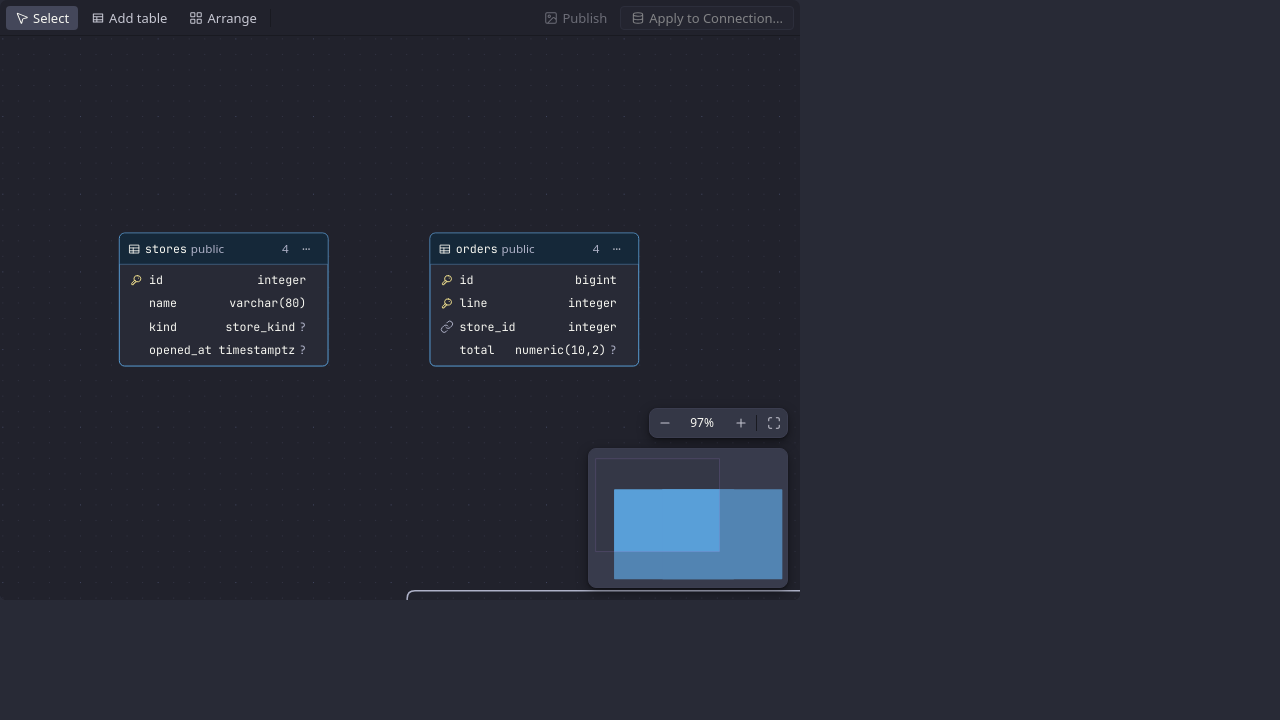
Test: card_ask_from_never_connection_leaves_the_gate_to_the_core
This screenshot has width=1280, height=720.
Click the button named "Table actions" at (306, 249), box [293,235,320,262]
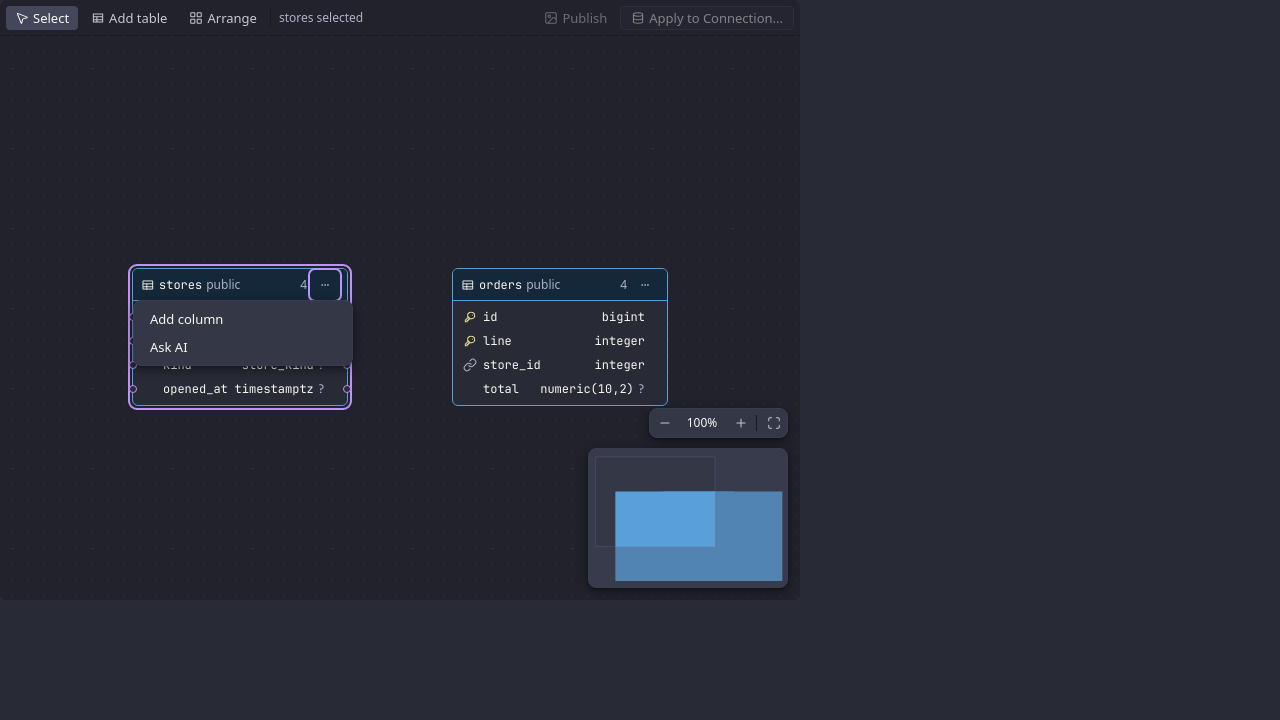
Click the menu item "Ask AI" at (243, 347), box [138,333,348,361]
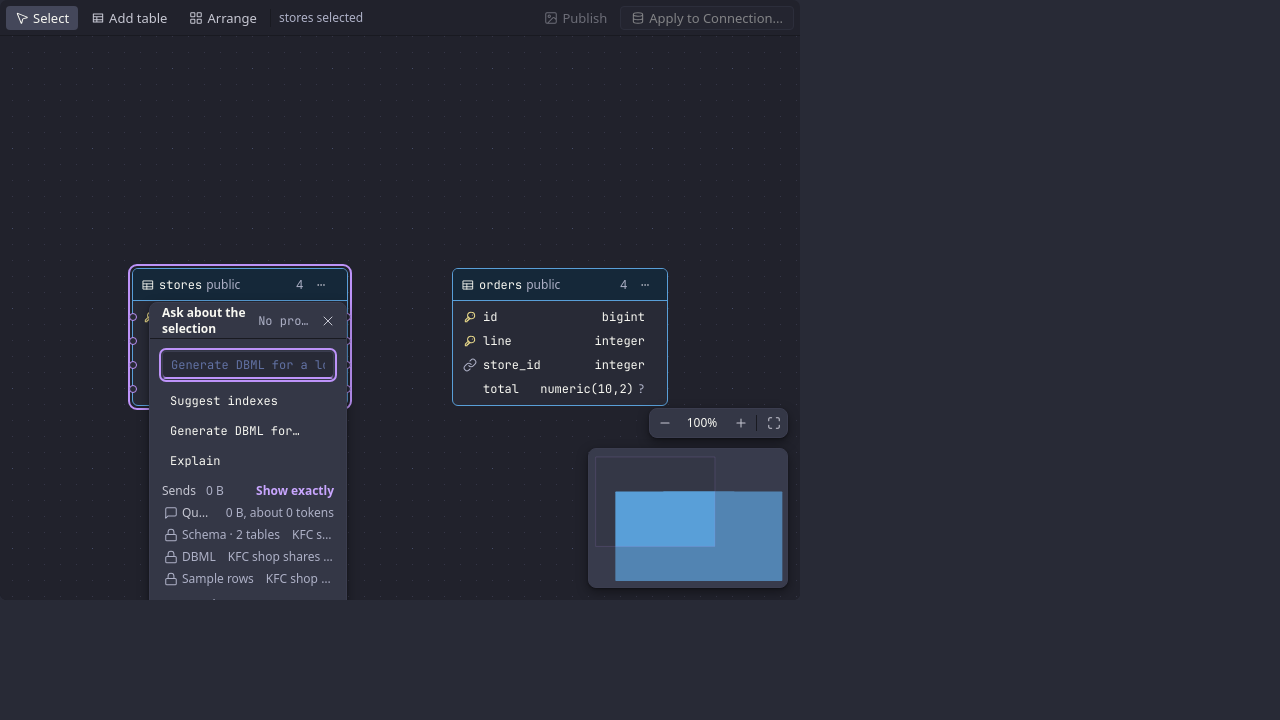
Check: the 1st text "KFC shop shares nothing with AI" is shown, box [292,527,334,543]
Click the button "Explain" at (248, 461), box [162,447,334,475]
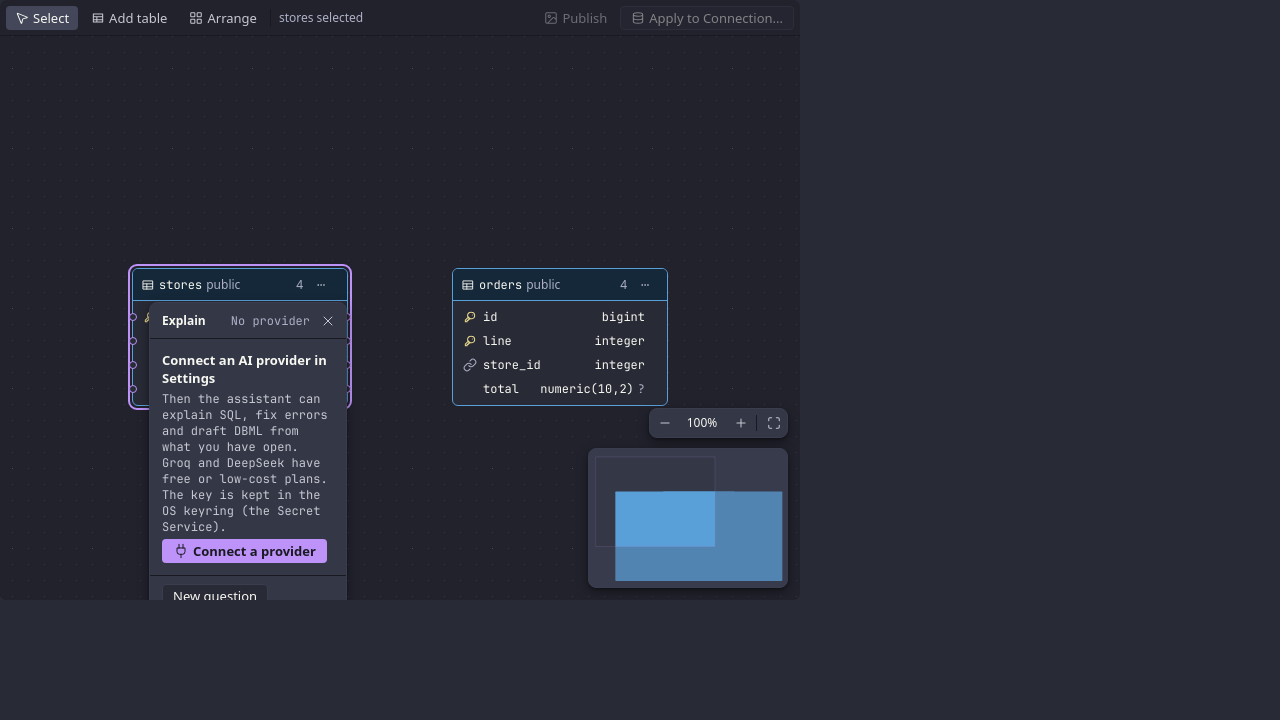
Check: the text "Connect an AI provider in Settings" is shown, box [162,351,334,387]
